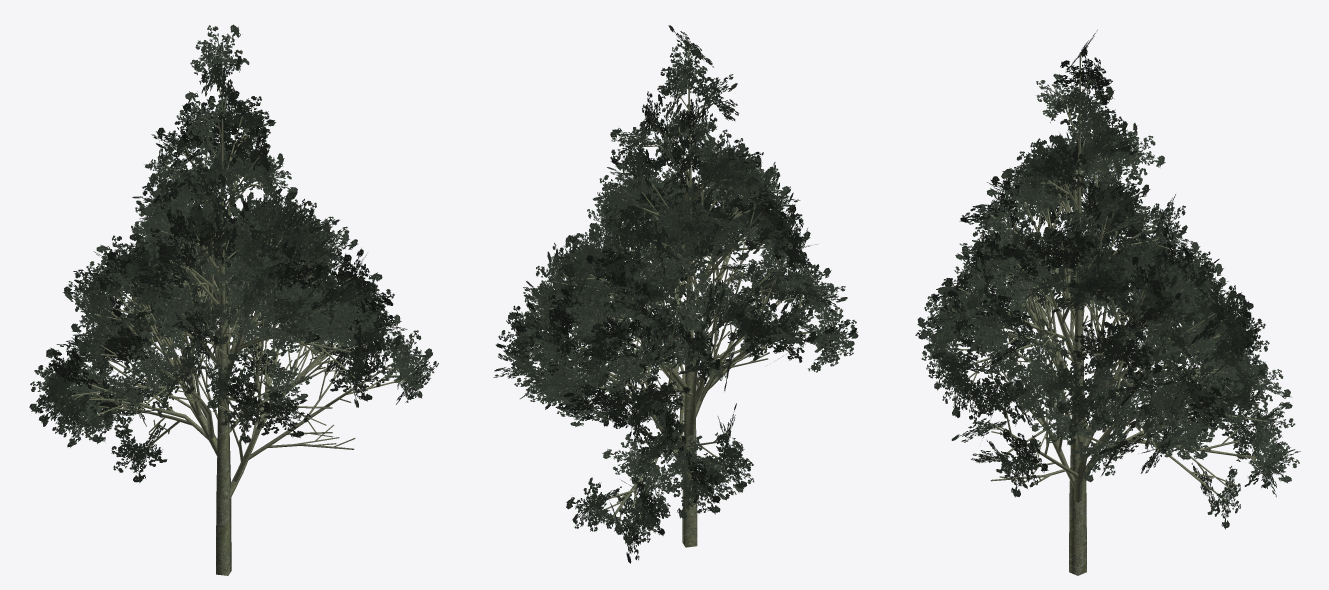
File: Tree1.fbx
3 renders of one model, left to right at view 1: azimuth 30°, elevation 25°; view 2: azimuth 150°, elevation 25°; view 3: azimuth 270°, elevation 25°, orthographic. The views are drawn at different scales.
Visible parts, largest first — view 1: Tree_LOD0; view 2: Tree_LOD0; view 3: Tree_LOD0.
Boxes of the visible parts, x1=… form: Tree_LOD0: x1=29, y1=24, x2=438, y2=575; Tree_LOD0: x1=493, y1=25, x2=858, y2=563; Tree_LOD0: x1=915, y1=30, x2=1300, y2=575.
Size of what is drawn, in the model's own units: 238 by 358 by 246.
2 materials, 2 textured.
